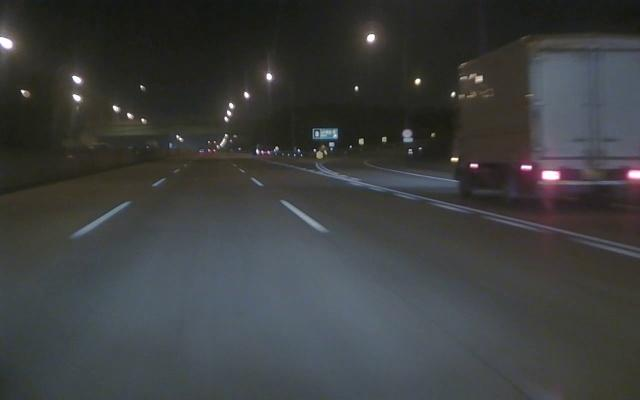lane: (316, 170, 640, 259), (3, 180, 162, 279), (250, 178, 332, 233)
